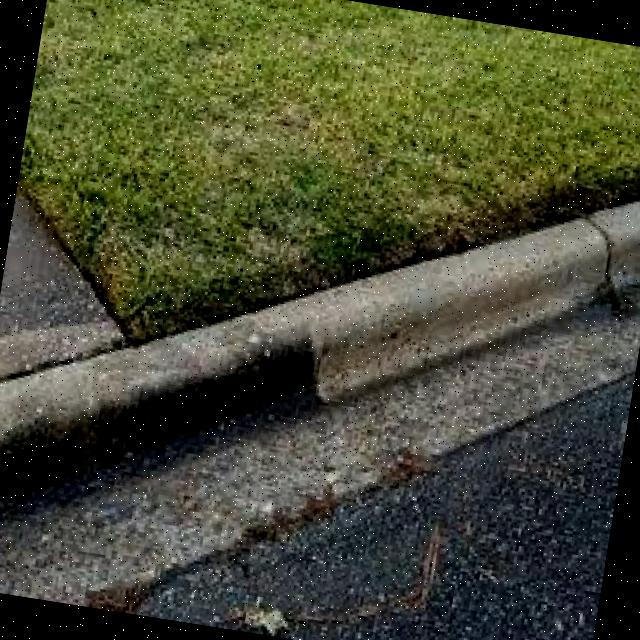curb: (1, 207, 397, 587), (328, 148, 640, 507)
